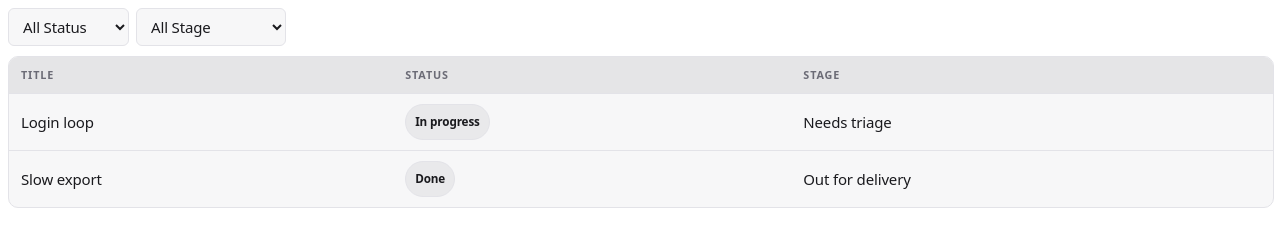
Test case: DataTable › offers a filter in the words a cell SLOT shows, not the token behind it
Select "In progress" in the dropdown named "Filter by Status" at (68, 27), box [8,8,129,46]
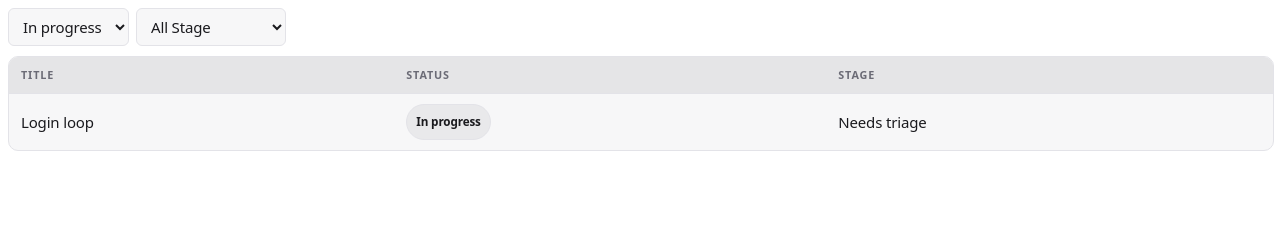
expect the text "Login loop" is shown: met, box [9,94,394,150]
expect the text "Slow export" is gone: met
